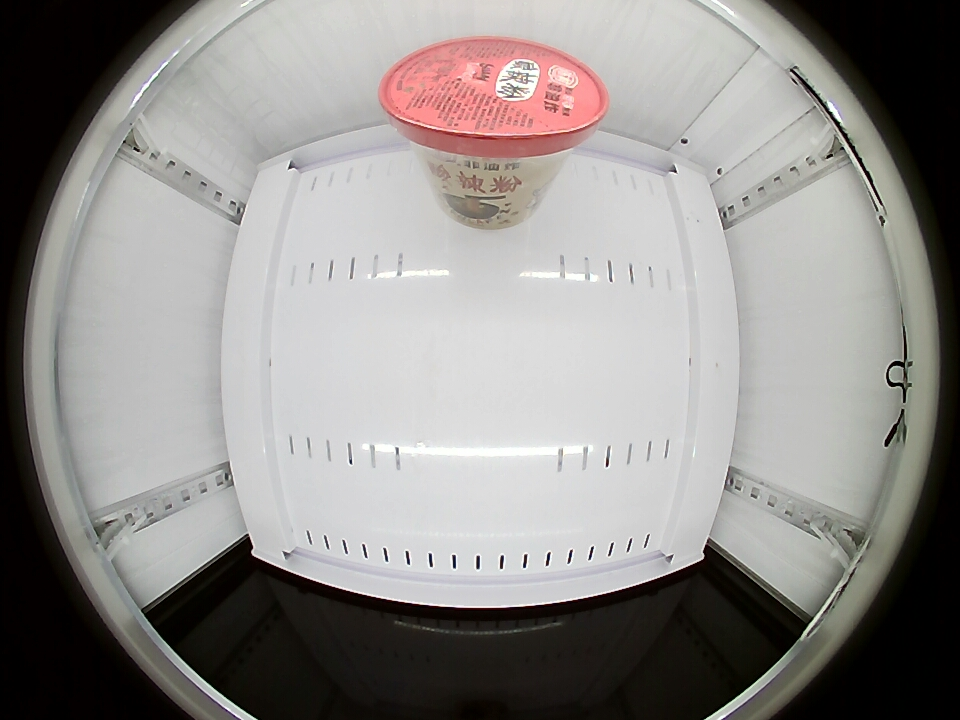suanlafen: (378, 39, 609, 172)
